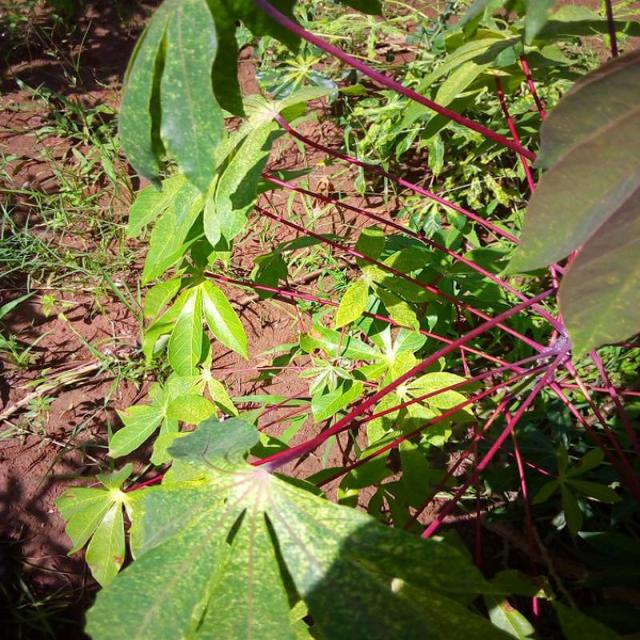cassava leaf: (81, 416, 533, 638), (501, 45, 639, 362), (116, 0, 226, 194)
